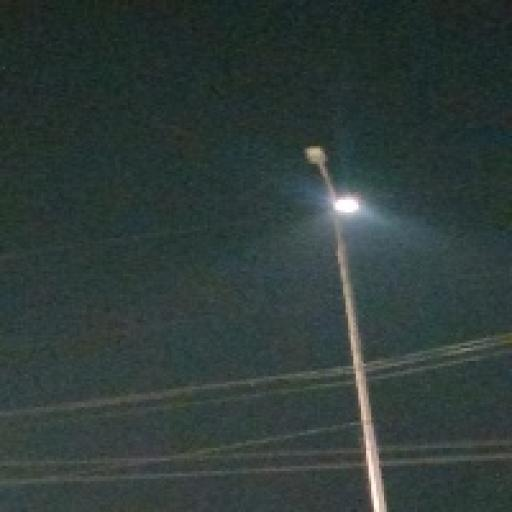Not Working: (302, 140, 333, 171)
Working: (328, 188, 363, 220)
